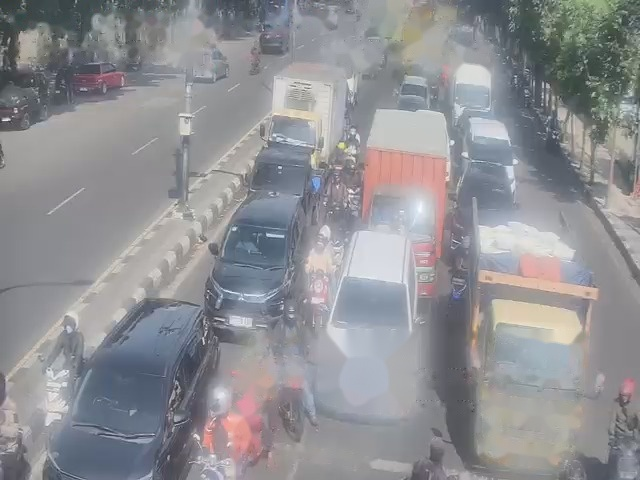Bis: (454, 60, 494, 126)
Mobil: (57, 299, 212, 480), (321, 232, 408, 392), (215, 194, 310, 332), (450, 162, 515, 256), (245, 146, 319, 222), (462, 116, 518, 201)
Motor: (189, 434, 234, 479), (42, 358, 69, 427), (447, 237, 469, 317), (279, 376, 304, 442), (325, 172, 346, 239), (343, 149, 362, 217), (309, 271, 328, 335), (610, 438, 639, 479), (339, 126, 359, 159), (333, 240, 344, 265)
Truk: (466, 198, 604, 473), (367, 106, 450, 267), (261, 63, 345, 168)
